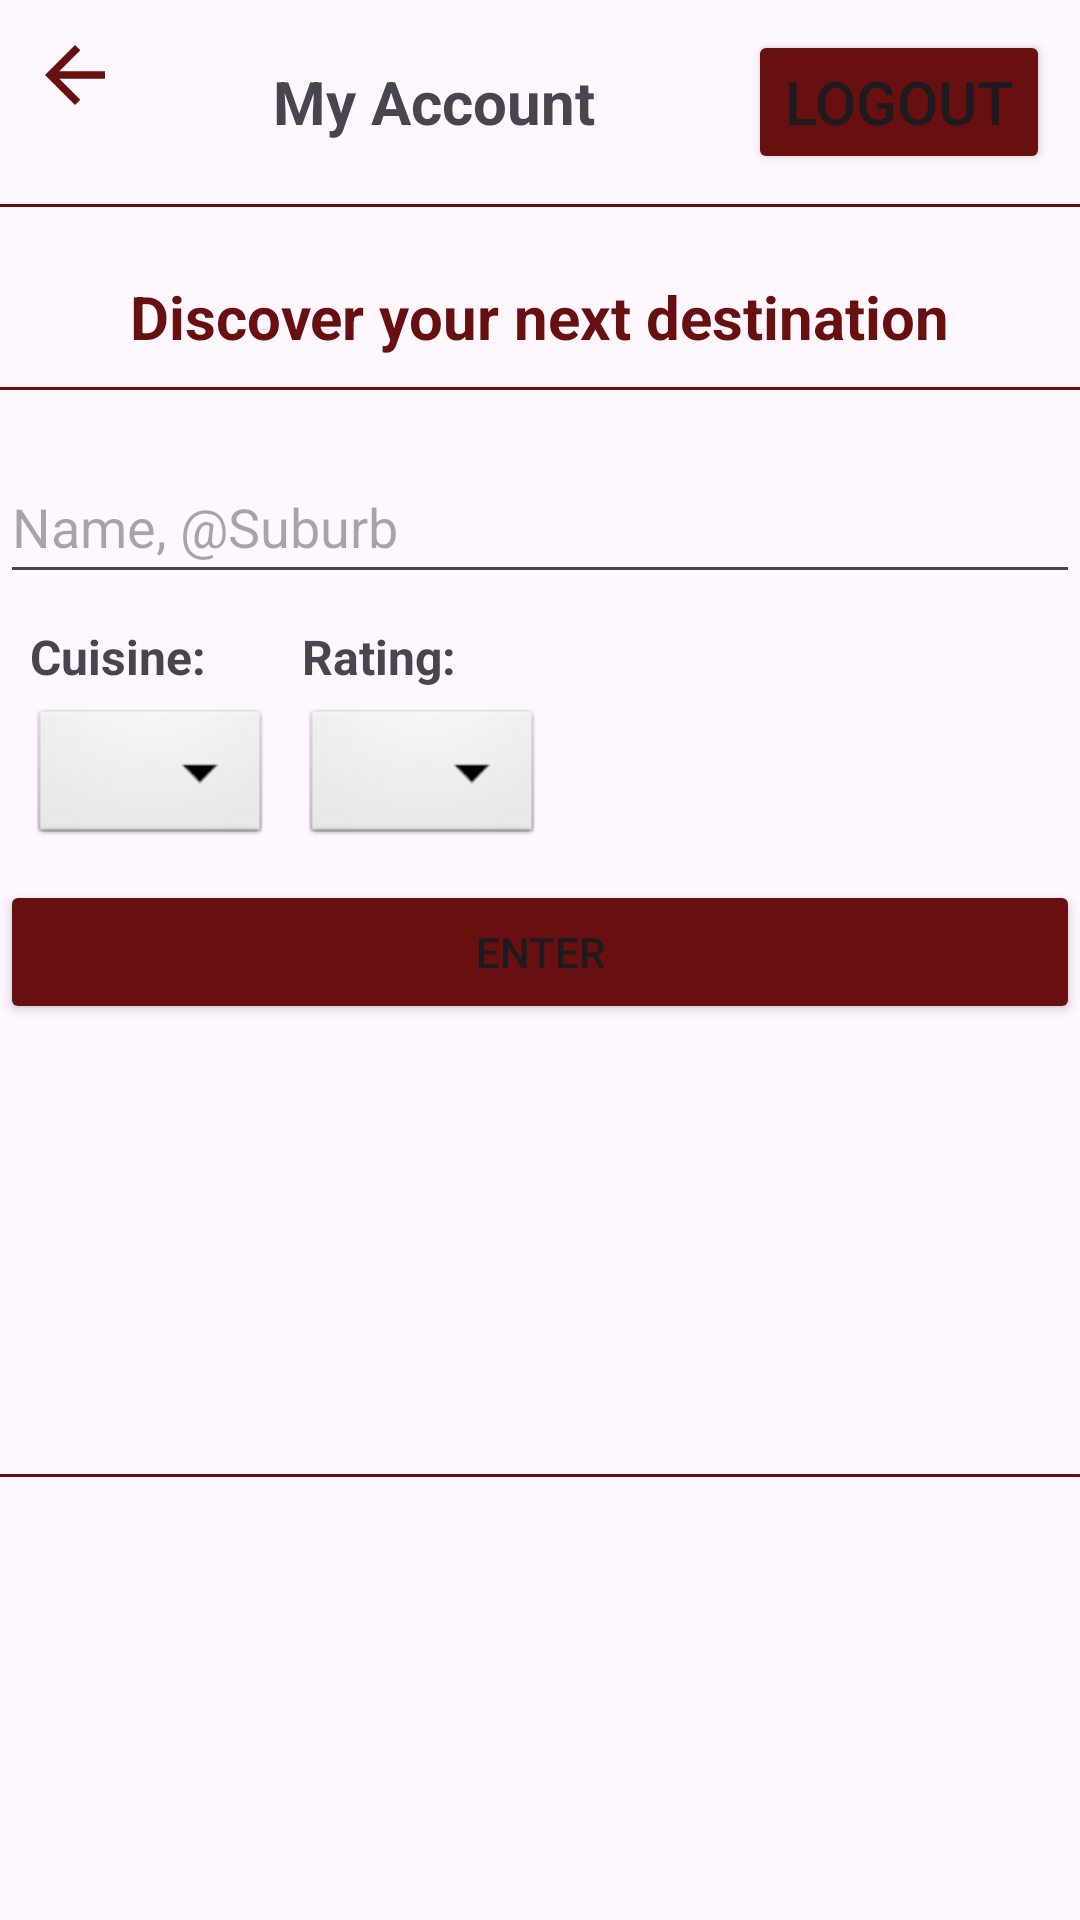

Locate icon controls on the screen. Image size 1080x1920, boxes as box(x1, y1, x2, y2).
arrow back: box(45, 45, 105, 105)
